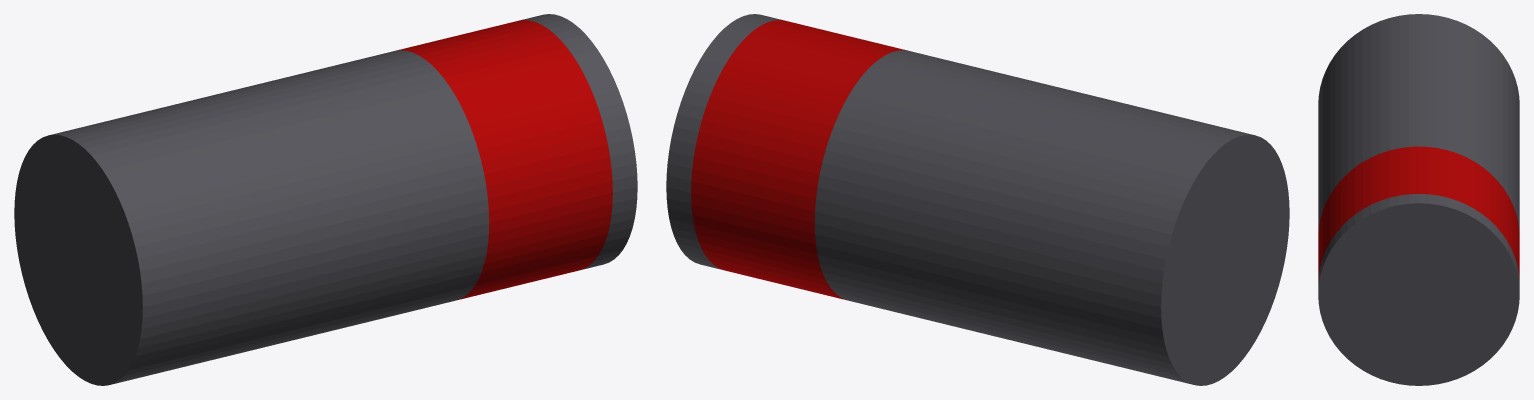
The model's file is rotor_lock_pin.obj.
3 renders of one model, left to right at view 1: azimuth 30°, elevation 25°; view 2: azimuth 150°, elevation 25°; view 3: azimuth 270°, elevation 25°, orthographic. The views are drawn at different scales.
Visible parts, largest first — view 1: rotor_lock_pin; view 2: rotor_lock_pin; view 3: rotor_lock_pin.
Part boxes in pixels (x1,y1,x2,y2): rotor_lock_pin: [14, 14, 637, 385]; rotor_lock_pin: [666, 14, 1289, 385]; rotor_lock_pin: [1318, 14, 1519, 385].
Bounding box in the file's own units: 0.2 × 0.09 × 0.09.
